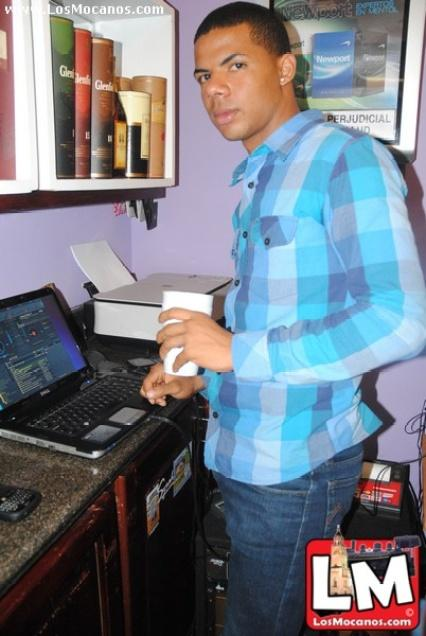Printer: (68, 238, 232, 353)
